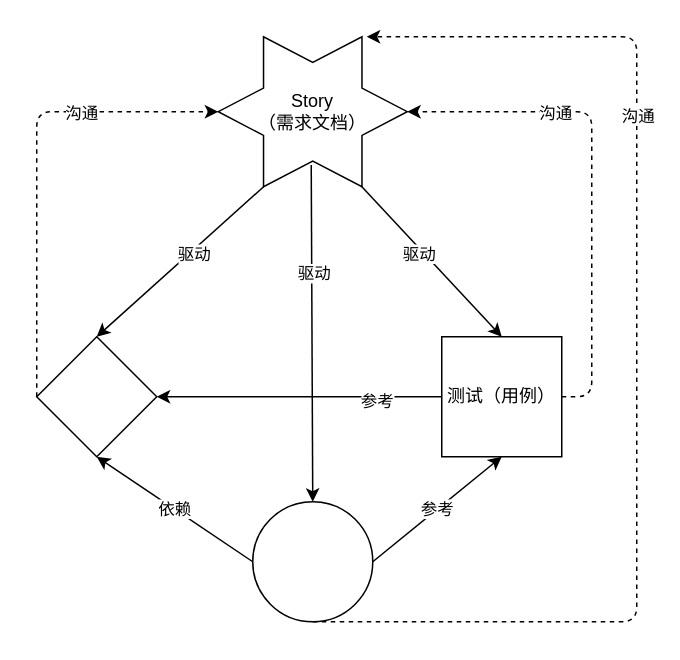
The diagram is 680 pixels wide and 660 high, and some of its shapes have lost their labels. The box of each missing label's shape, as (x1, y1, x2, y2) in pixels:
开发: (251, 500, 373, 622)
设计: (35, 335, 157, 457)
